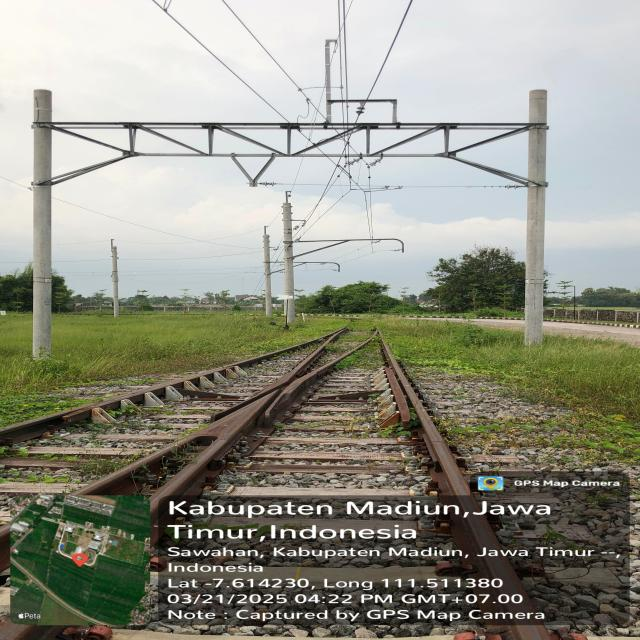rail-detection: (0, 328, 569, 640)
